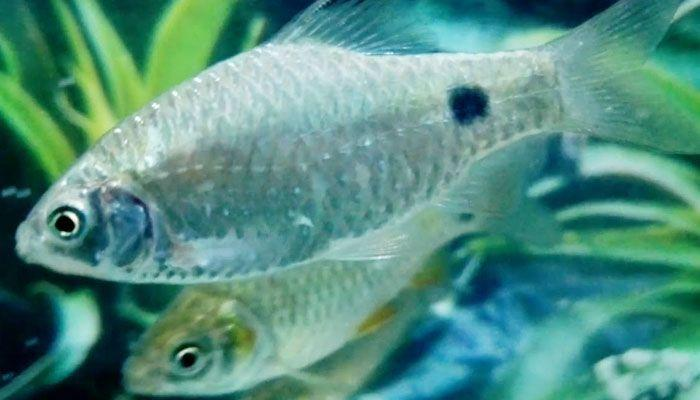Black Spotted Barb: (11, 0, 700, 281), (121, 267, 385, 400)
